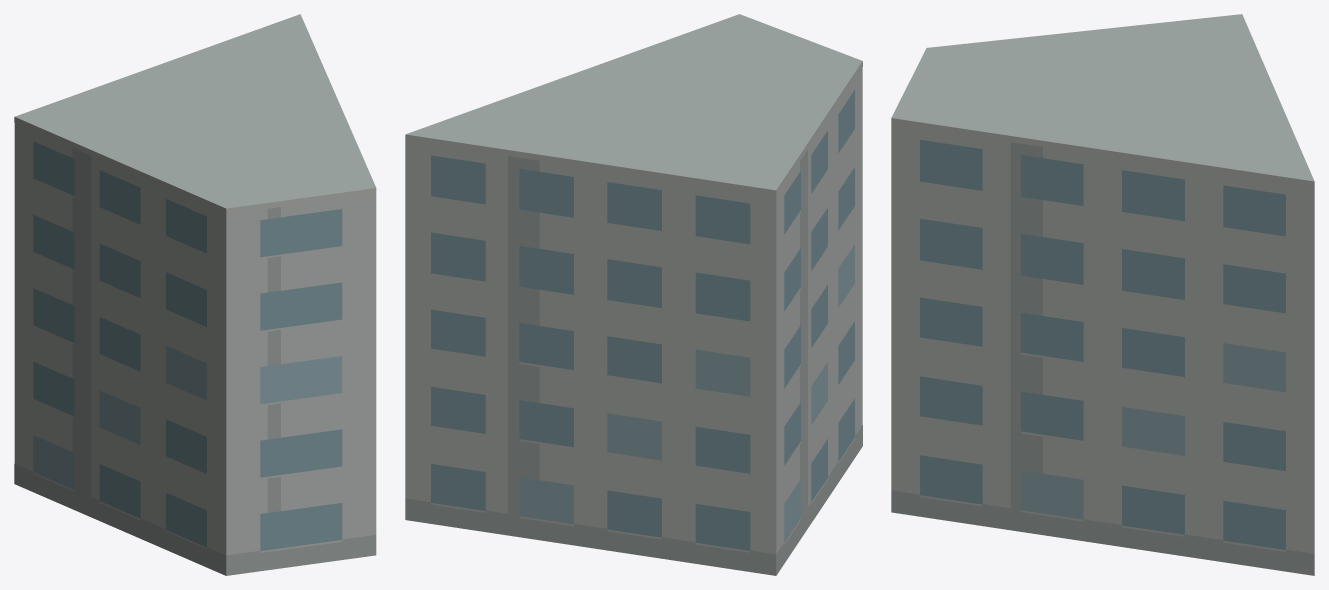
The model's file is residential-f21dd67c-2133-4da3-860d-0c06dbfdf22b.glb.
3 renders of one model, left to right at view 1: azimuth 30°, elevation 25°; view 2: azimuth 150°, elevation 25°; view 3: azimuth 270°, elevation 25°, orthographic. The views are drawn at different scales.
Parts seen in each view (by area): view 1: residential-f21dd67c-2133-4da3-860d-0c06dbfdf22b.tmp; view 2: residential-f21dd67c-2133-4da3-860d-0c06dbfdf22b.tmp; view 3: residential-f21dd67c-2133-4da3-860d-0c06dbfdf22b.tmp.
Boxes of the visible parts, x1,y1,x2,y2 form: residential-f21dd67c-2133-4da3-860d-0c06dbfdf22b.tmp: (14,14,376,575); residential-f21dd67c-2133-4da3-860d-0c06dbfdf22b.tmp: (405,14,862,575); residential-f21dd67c-2133-4da3-860d-0c06dbfdf22b.tmp: (891,14,1314,575).
Size of the model in its own units: 13.9 by 15.25 by 14.85.
